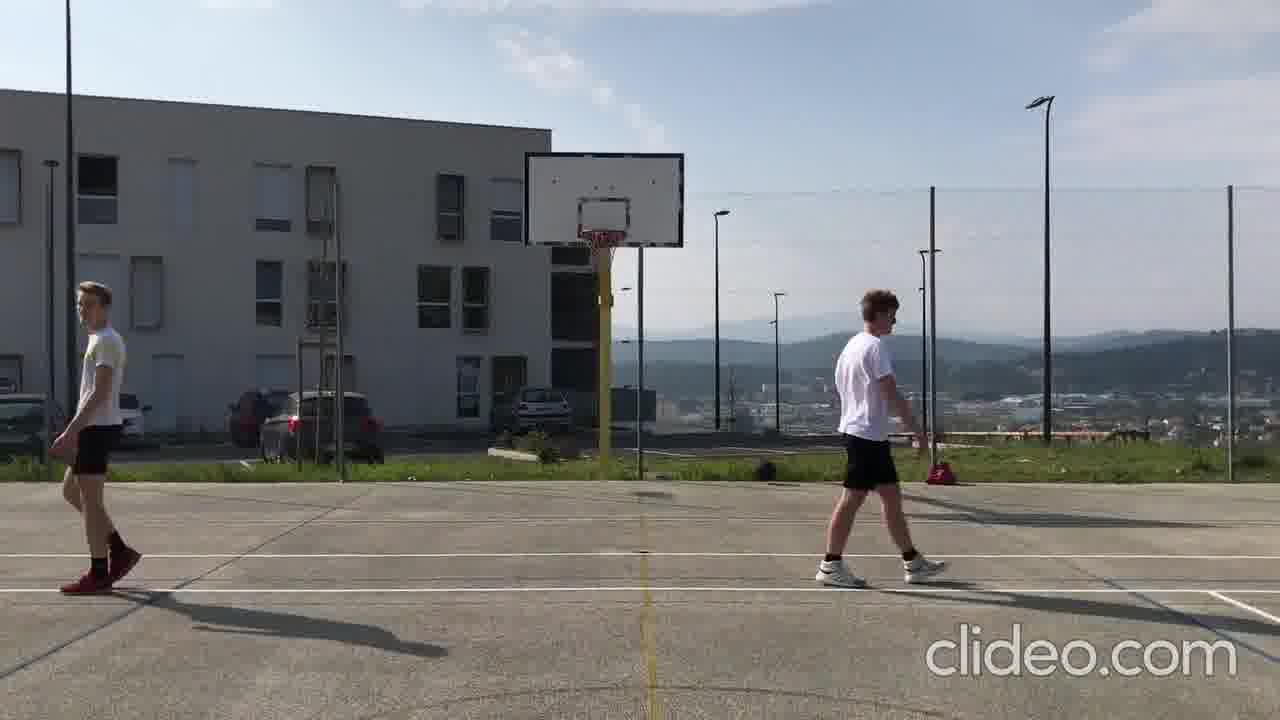jugador: (38, 268, 151, 608)
